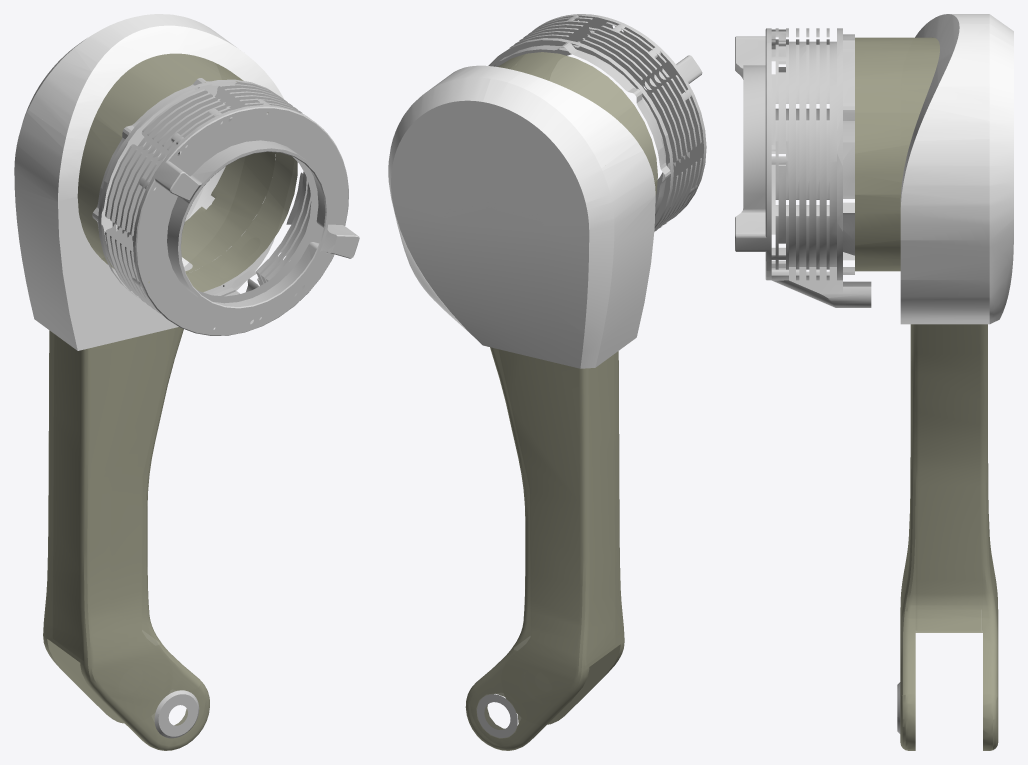
The model's file is L_Thigh.dae.
The picture shows the model from 3 angles, left to right: view 1: azimuth 30°, elevation 25°; view 2: azimuth 150°, elevation 25°; view 3: azimuth 270°, elevation 25°; orthographic projection. The views are drawn at different scales.
Parts seen in each view (by area): view 1: solid_L_Thigh (×3); view 2: solid_L_Thigh (×3); view 3: solid_L_Thigh (×3).
Part boxes in pixels (x1,y1,x2,y2): solid_L_Thigh (×3): [14, 14, 359, 750]; solid_L_Thigh (×3): [388, 14, 706, 750]; solid_L_Thigh (×3): [735, 14, 1013, 750].
Bounding box in the file's own units: 0.138 × 0.137 × 0.3901.
